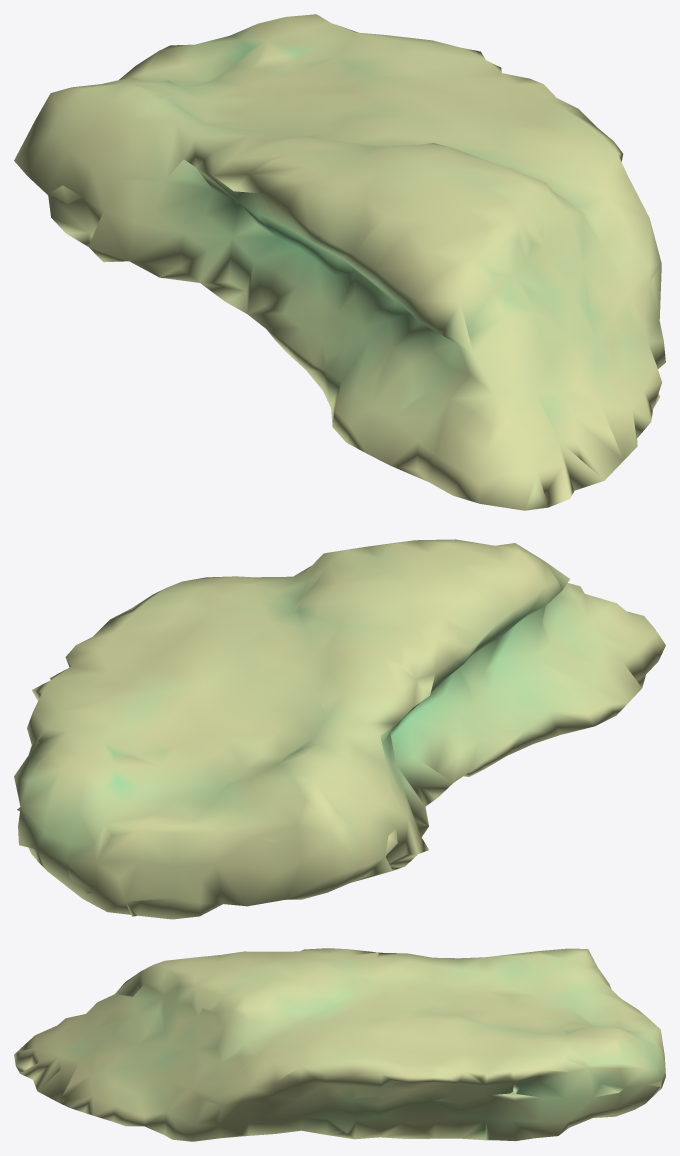
File: scan_07_lo.glb
The picture shows the model from 3 angles, top to bottom: view 1: azimuth 30°, elevation 25°; view 2: azimuth 150°, elevation 25°; view 3: azimuth 270°, elevation 25°; orthographic projection. The views are drawn at different scales.
Size of the model in its own units: 0.959 by 0.4214 by 1.88.
